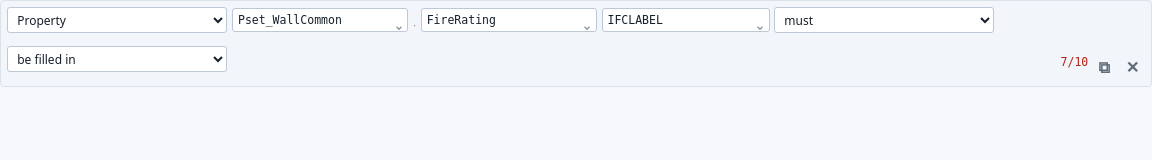
Test: ConditionRow › picks a name off the dropdown
The width and height of the screenshot is (1152, 160).
Click the button named "Show Field name suggestions" at point(587, 28), box [579, 20, 595, 36]
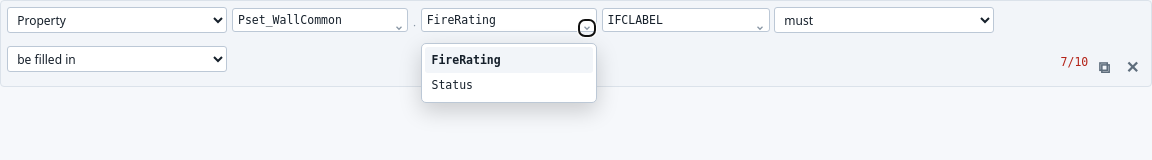
Click the option "Status" at point(452, 85), box [432, 78, 473, 92]
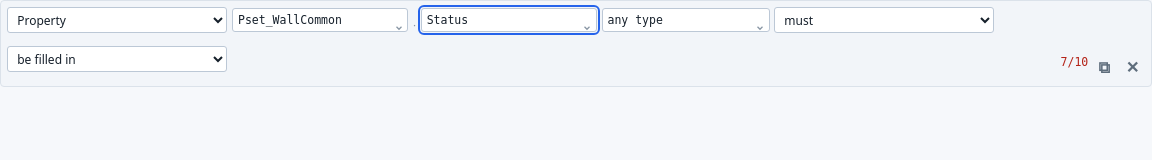
expect the dropdown named "field name" holds "Status": met, box [421, 8, 597, 32]
expect the list is gone: met
